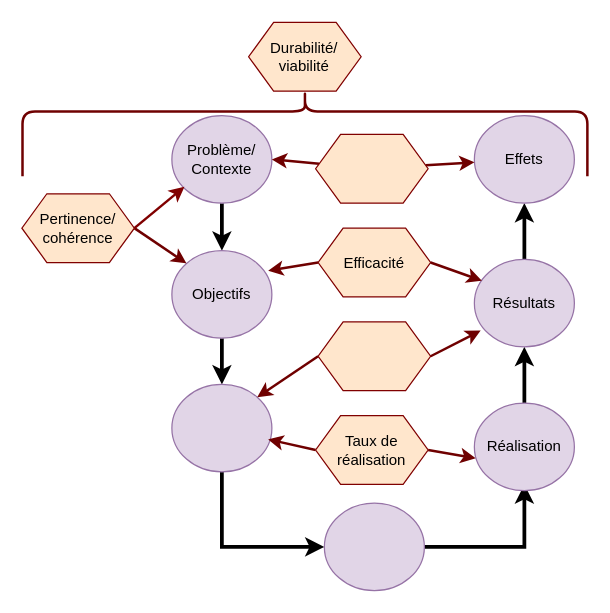
Some shapes in this 610 by 613 pixel diagram are drawn without their labels. Each missing label, with the box of its shape:
Activités: (323, 502, 424, 591)
Efficience: (317, 321, 431, 391)
Impact: (314, 133, 428, 203)
Moyens: (171, 383, 272, 472)
